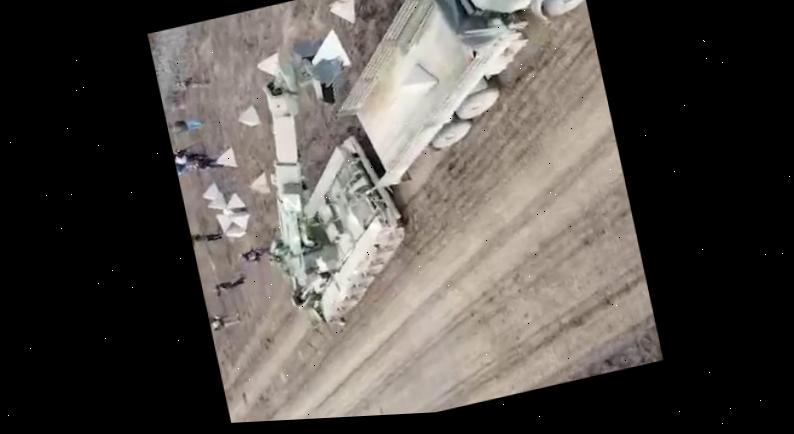person: (185, 151, 225, 176), (210, 274, 247, 297), (174, 71, 212, 93), (166, 114, 205, 135), (172, 142, 206, 165), (237, 243, 271, 265), (208, 309, 241, 330), (190, 226, 222, 245)
tank: (224, 24, 423, 335)
truck: (310, 0, 616, 195)
